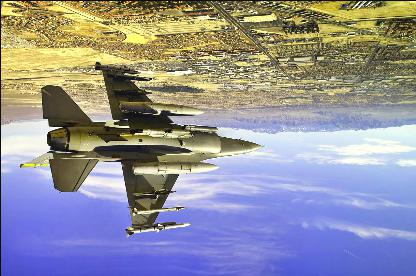F14: (20, 60, 266, 234)
